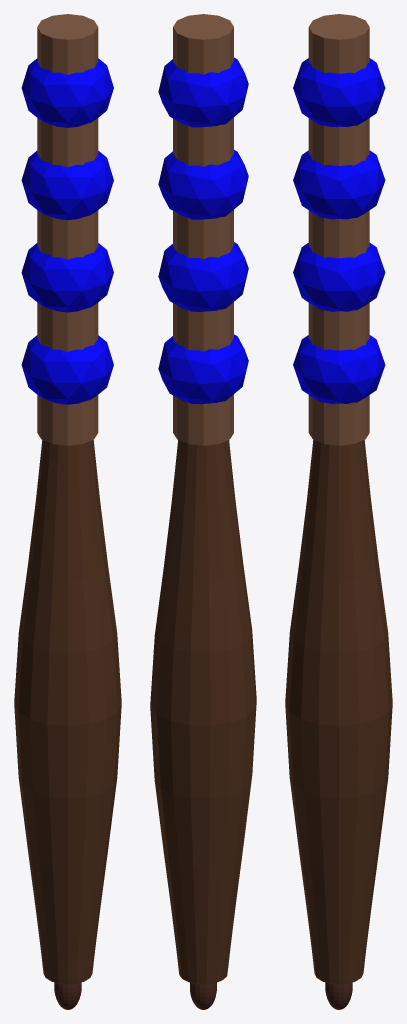
The model's file is Wand 136.glb.
3 views of the same model, side by side, from view 1: azimuth 90°, elevation 25°; view 2: azimuth 210°, elevation 25°; view 3: azimuth 270°, elevation 25° (orthographic).
Parts seen in each view (by area): view 1: GeneratedWand; view 2: GeneratedWand; view 3: GeneratedWand.
Boxes of the visible parts, x1,y1,x2,y2 form: GeneratedWand: [14, 14, 121, 1009]; GeneratedWand: [150, 14, 256, 1009]; GeneratedWand: [285, 14, 392, 1009].
Size of the model in its own units: 0.0499 by 0.5022 by 0.0499.
